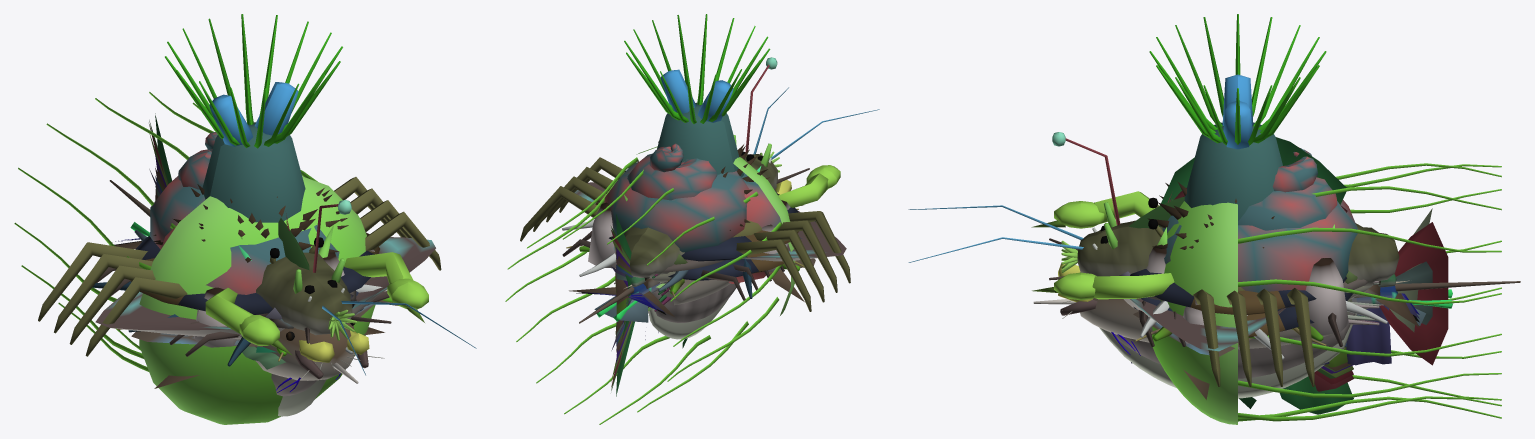
The model's file is creatures_kelp.glb.
The picture shows the model from 3 angles, left to right: view 1: azimuth 30°, elevation 25°; view 2: azimuth 150°, elevation 25°; view 3: azimuth 270°, elevation 25°; orthographic projection. The views are drawn at different scales.
Parts seen in each view (by area): view 1: frond_jelly, kelp_litter_crab, comb_siphon_tunicate, carrion_whelk, murk_sea_cucumber, lace_fan_worm, veil_fin_ray, holdfast_hog, pod_cracker_bream, glint_scallop, mud_sifter_isopod, bulb_lure_angler (+8 smaller); view 2: carrion_whelk, kelp_litter_crab, frond_jelly, comb_siphon_tunicate, lace_fan_worm, murk_sea_cucumber, bulb_lure_angler, glint_scallop, pod_cracker_bream, holdfast_hog, stalk_barnacle_colony, mud_sifter_isopod (+7 smaller); view 3: frond_jelly, carrion_whelk, kelp_litter_crab, comb_siphon_tunicate, pod_cracker_bream, murk_sea_cucumber, lace_fan_worm, quill_sculpin, bulb_lure_angler, stalk_barnacle_colony, holdfast_hog, veil_fin_ray (+10 smaller).
Boxes of the visible parts, x1,y1,x2,y2 form: frond_jelly: (14, 92, 375, 424); kelp_litter_crab: (38, 177, 441, 356); comb_siphon_tunicate: (202, 82, 305, 222); carrion_whelk: (150, 132, 344, 301); murk_sea_cucumber: (256, 252, 357, 340); lace_fan_worm: (165, 14, 342, 148); veil_fin_ray: (95, 237, 435, 379); holdfast_hog: (115, 241, 384, 388); pod_cracker_bream: (155, 113, 326, 416); glint_scallop: (136, 236, 374, 336); mud_sifter_isopod: (96, 267, 391, 356); bulb_lure_angler: (149, 124, 351, 396); carrion_whelk: (604, 143, 781, 283); kelp_litter_crab: (520, 154, 850, 311); frond_jelly: (505, 146, 794, 424); comb_siphon_tunicate: (657, 69, 743, 176); lace_fan_worm: (624, 14, 770, 123); murk_sea_cucumber: (616, 151, 781, 277); bulb_lure_angler: (611, 57, 777, 386); glint_scallop: (609, 193, 798, 280); pod_cracker_bream: (616, 156, 740, 396); holdfast_hog: (569, 190, 804, 316); stalk_barnacle_colony: (588, 200, 790, 283); mud_sifter_isopod: (562, 168, 815, 300); frond_jelly: (1152, 163, 1501, 424); carrion_whelk: (1092, 147, 1357, 307); kelp_litter_crab: (1031, 191, 1314, 386); comb_siphon_tunicate: (1184, 74, 1282, 220); pod_cracker_bream: (1099, 137, 1367, 414); murk_sea_cucumber: (1061, 220, 1399, 286); lace_fan_worm: (1149, 14, 1326, 145); quill_sculpin: (1170, 195, 1448, 384); bulb_lure_angler: (1052, 132, 1355, 391); stalk_barnacle_colony: (1146, 245, 1348, 343); holdfast_hog: (1080, 293, 1419, 399); veil_fin_ray: (1060, 298, 1285, 351).
Bounding box in the file's own units: 1.29 × 1.28 × 1.95.
